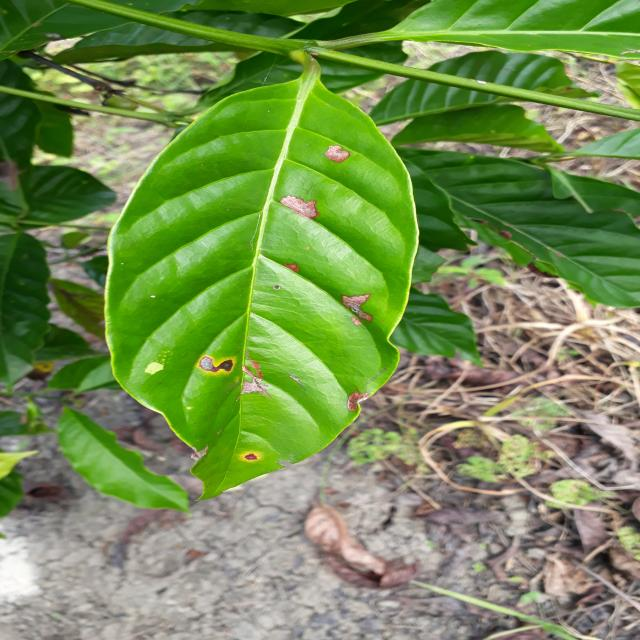Enfermedad-Roya: (55, 57, 420, 511)
